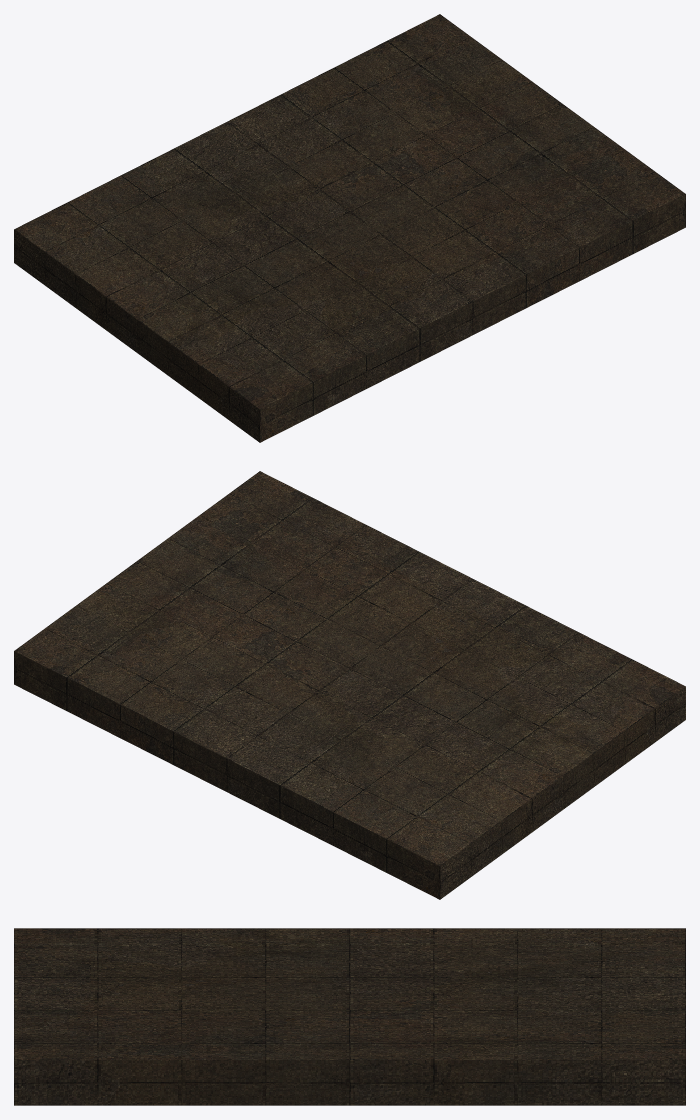
File: floor_ceiling_hs_3.glb
The picture shows the model from 3 angles, top to bottom: view 1: azimuth 30°, elevation 25°; view 2: azimuth 150°, elevation 25°; view 3: azimuth 270°, elevation 25°; orthographic projection. The views are drawn at different scales.
Parts seen in each view (by area): view 1: floor_ceiling_hs_3; view 2: floor_ceiling_hs_3; view 3: floor_ceiling_hs_3.
Boxes of the visible parts, x1,y1,x2,y2 form: floor_ceiling_hs_3: [14, 14, 685, 442]; floor_ceiling_hs_3: [14, 471, 685, 899]; floor_ceiling_hs_3: [14, 928, 685, 1105].
Size of the model in its own units: 4 by 1.3 by 4.
1 material, 1 textured.
